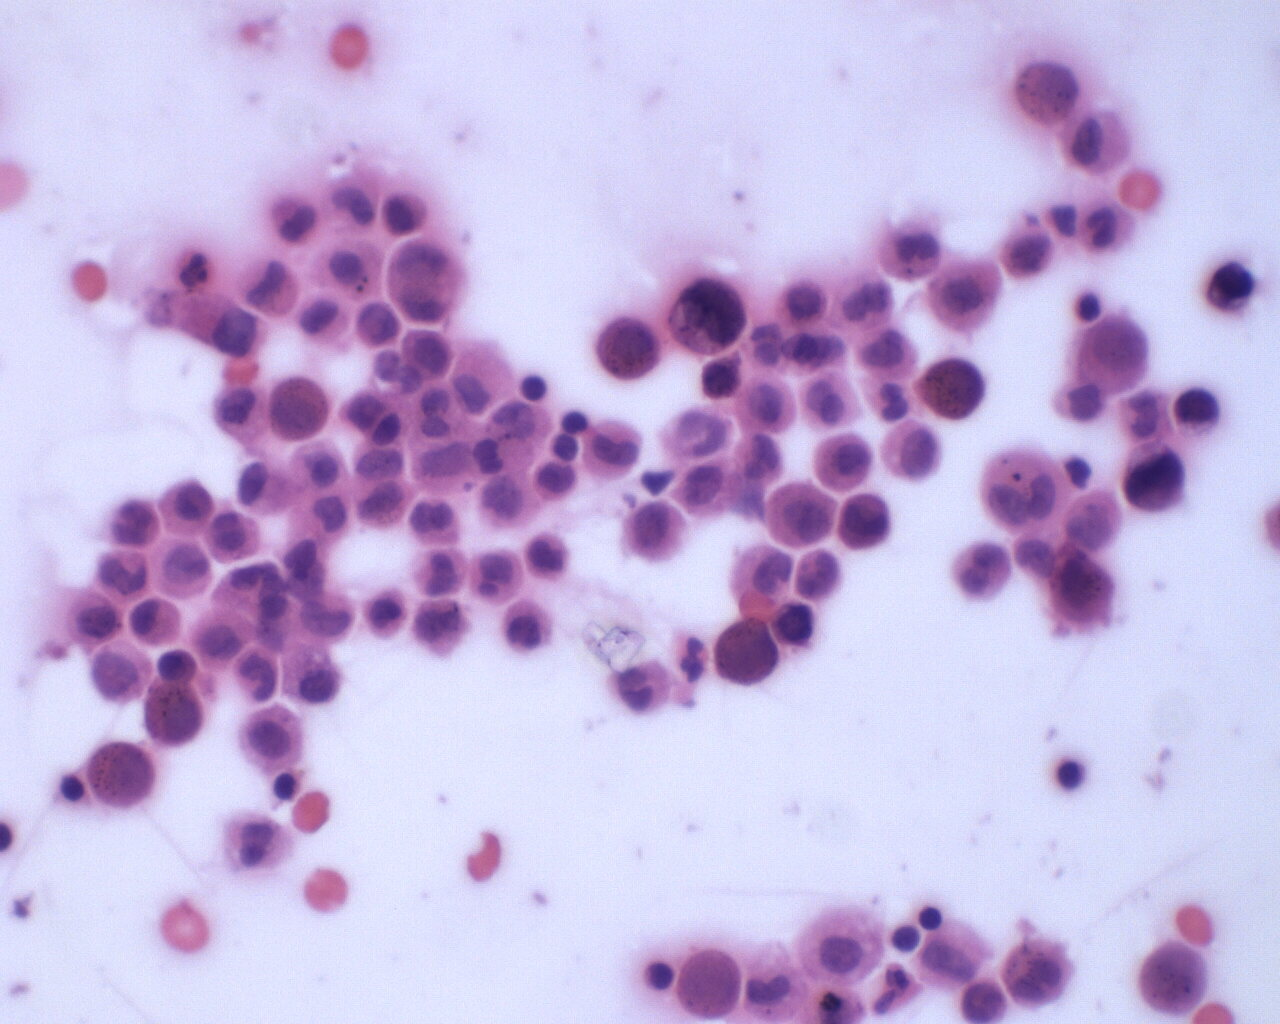ab: (668, 272, 748, 357), (1079, 311, 1151, 396), (1134, 939, 1213, 1016), (1049, 542, 1118, 630), (672, 942, 741, 1022), (85, 738, 158, 811), (763, 480, 839, 548), (1123, 442, 1188, 521), (265, 374, 336, 445), (1014, 54, 1080, 127), (918, 352, 988, 420), (141, 674, 206, 744), (716, 615, 781, 685), (598, 316, 664, 382), (811, 430, 876, 494), (625, 497, 686, 563), (833, 488, 891, 557), (67, 587, 124, 651), (996, 228, 1056, 283), (399, 327, 457, 381), (1204, 260, 1257, 317), (777, 276, 827, 330), (698, 353, 743, 405), (961, 978, 1011, 1024), (773, 600, 817, 647)
lymph: (517, 370, 552, 410), (270, 769, 305, 801), (644, 958, 676, 993), (1053, 757, 1086, 791), (917, 904, 944, 934)
meso: (796, 897, 887, 986), (127, 594, 188, 650)
neutro: (173, 250, 220, 294)
